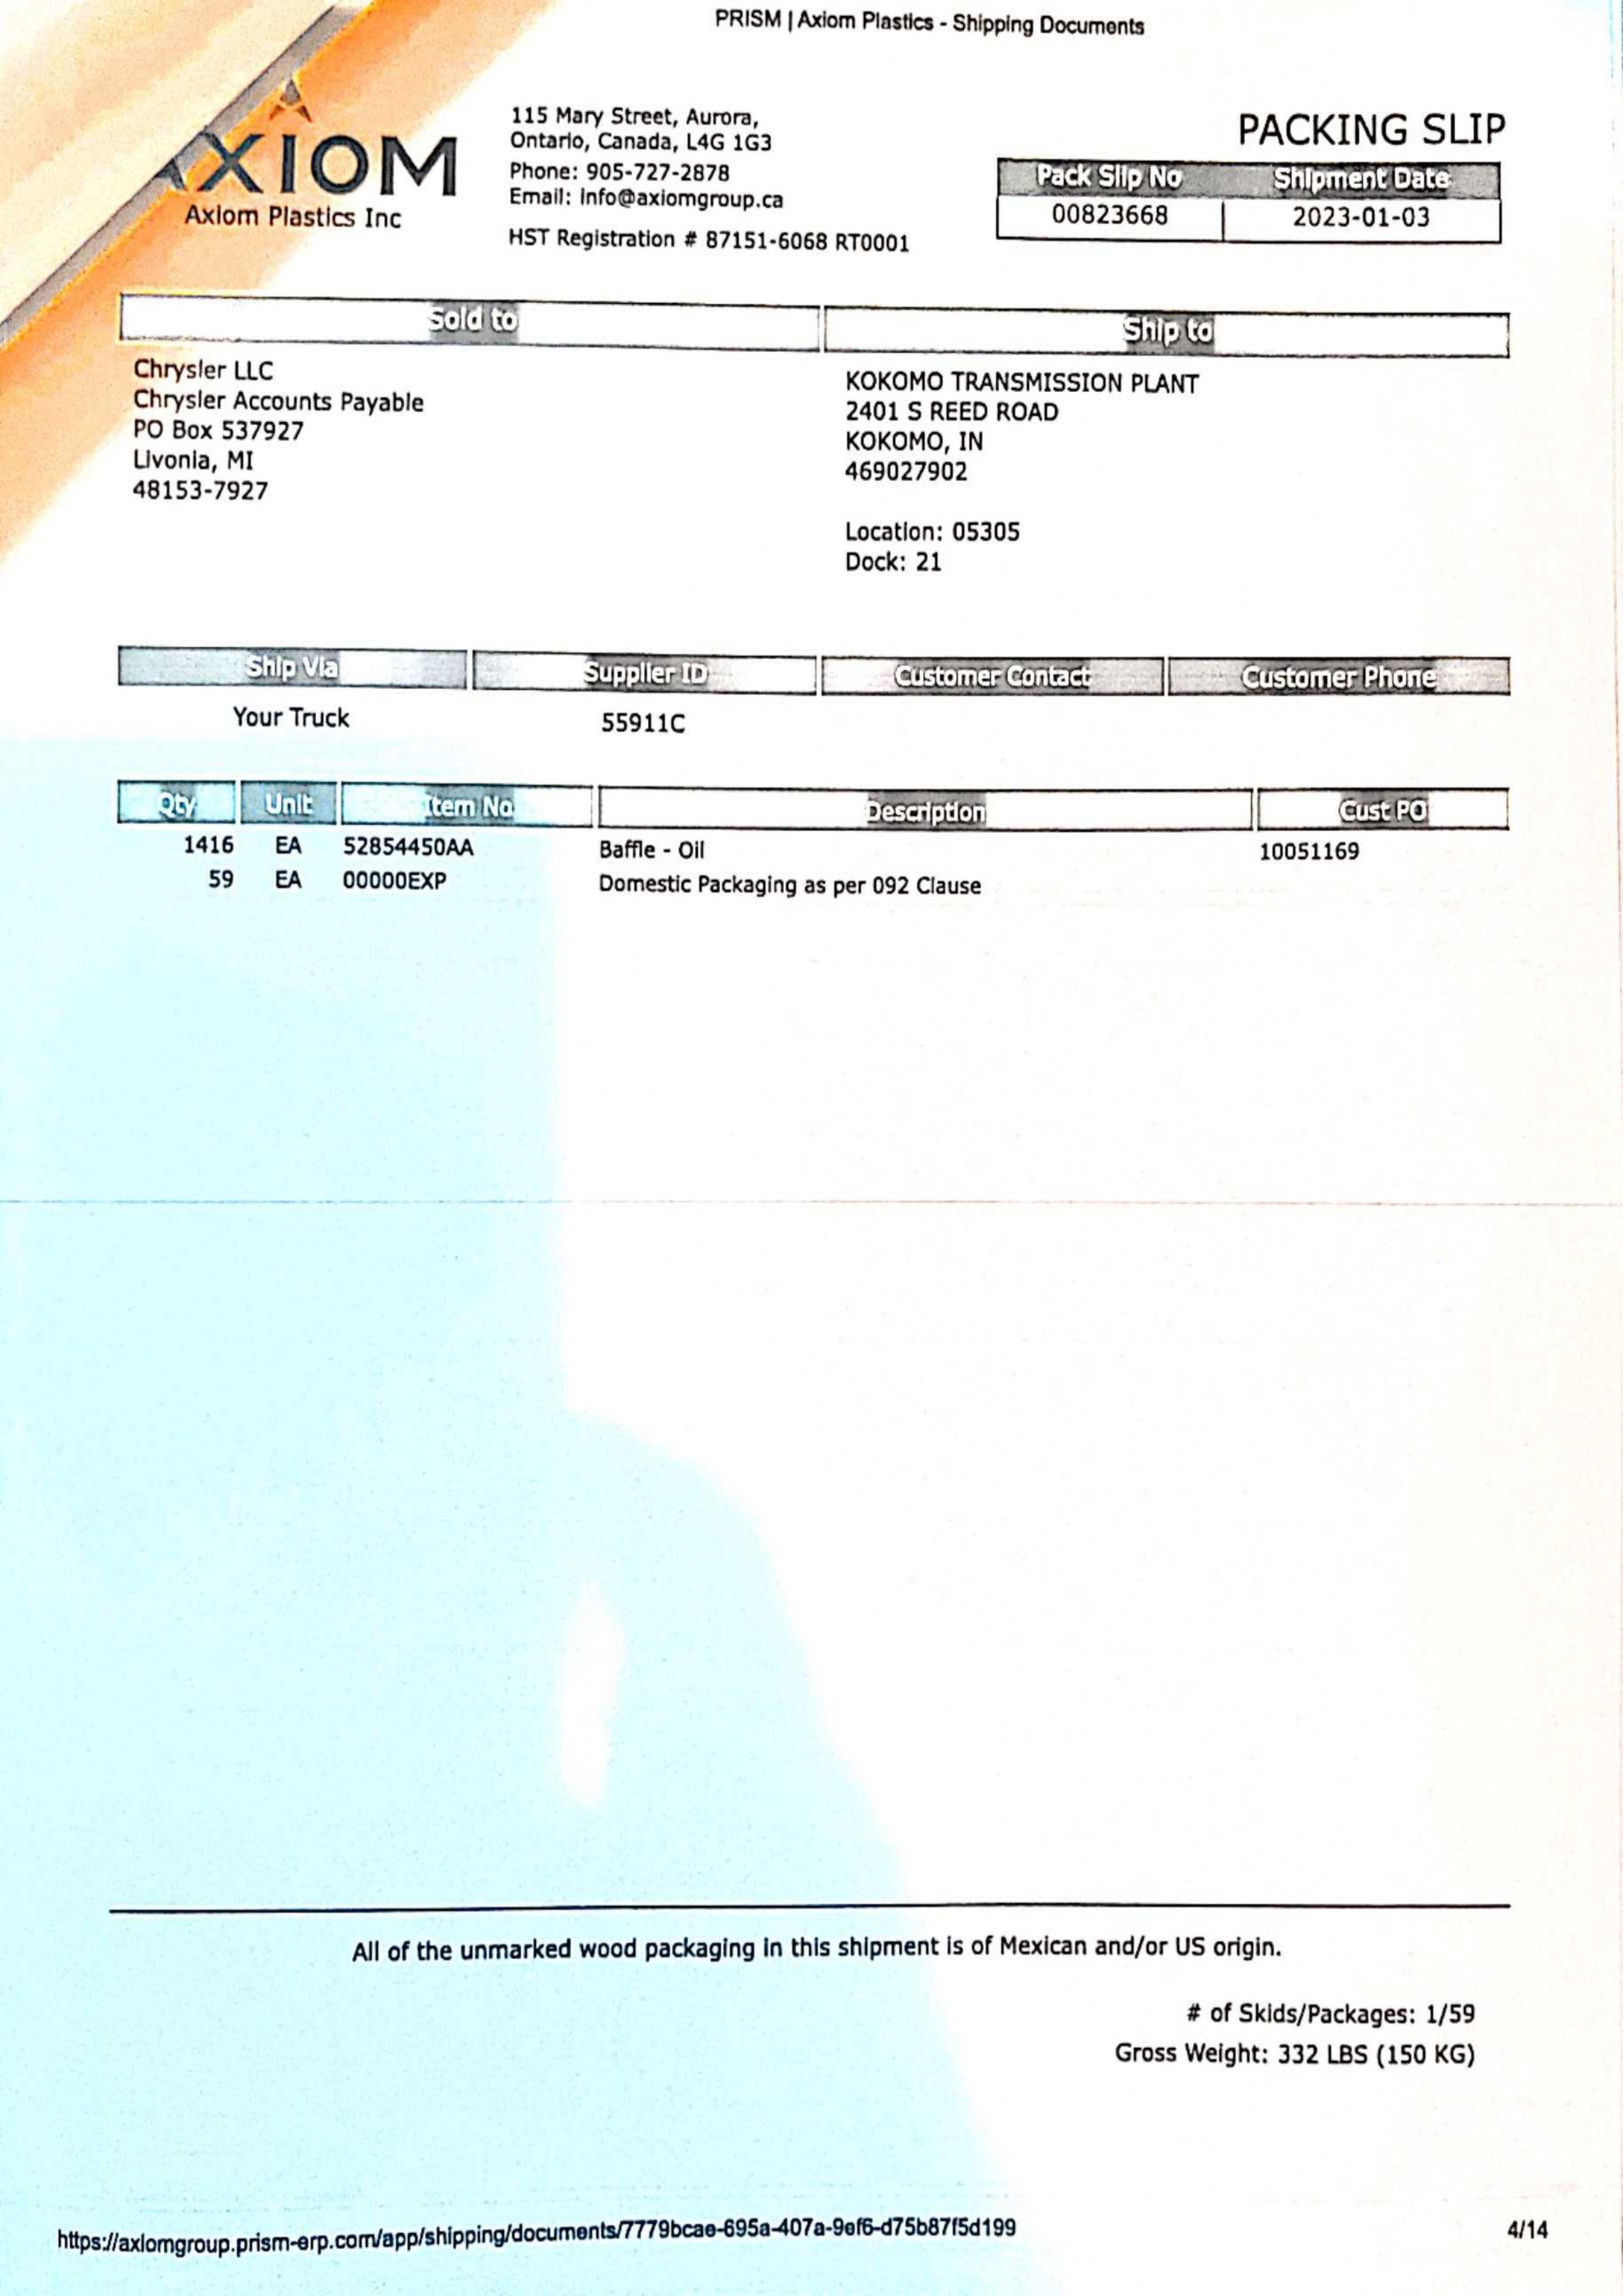B_Paragraph: (47, 2201, 1024, 2270), (506, 100, 912, 260), (348, 1919, 1289, 1970), (132, 353, 429, 506), (841, 367, 1207, 483), (1024, 156, 1458, 235), (1114, 1994, 1482, 2077), (225, 688, 708, 746), (836, 516, 1029, 579), (1495, 2206, 1562, 2252)
B_SubTitle: (220, 637, 1468, 704), (167, 200, 408, 233), (1119, 300, 1226, 358), (418, 298, 530, 349)
B_Table: (141, 781, 1509, 911)
B_Title: (141, 121, 465, 204), (713, 4, 1158, 44), (1233, 100, 1518, 161)
